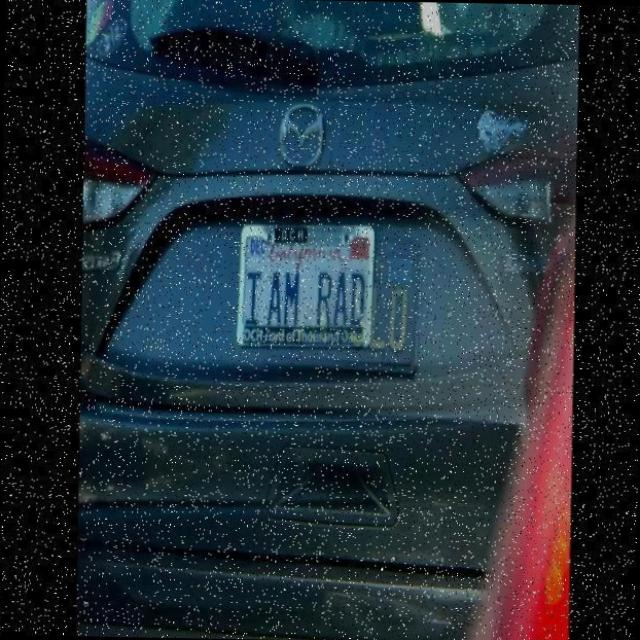LicensePlate: (230, 211, 388, 382)
